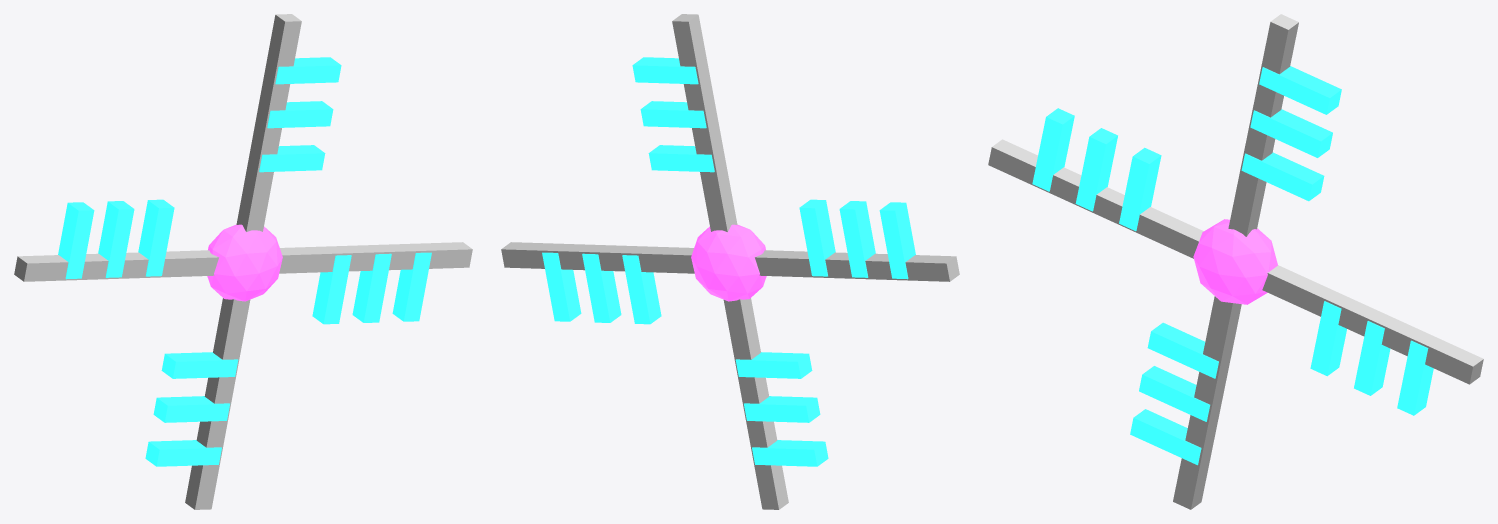
3 views of the same model, side by side, from view 1: azimuth 30°, elevation 25°; view 2: azimuth 150°, elevation 25°; view 3: azimuth 330°, elevation 25° (orthographic). The views are drawn at different scales.
Parts seen in each view (by area): view 1: Neon_WindmillRotor_Showcase; view 2: Neon_WindmillRotor_Showcase; view 3: Neon_WindmillRotor_Showcase.
Boxes of the visible parts, left/top/right/bottom form: Neon_WindmillRotor_Showcase: left=14, top=14, right=472, bottom=509; Neon_WindmillRotor_Showcase: left=501, top=14, right=959, bottom=509; Neon_WindmillRotor_Showcase: left=988, top=14, right=1483, bottom=509.
Size of the model in its own units: 1.98 by 1.98 by 0.24.
